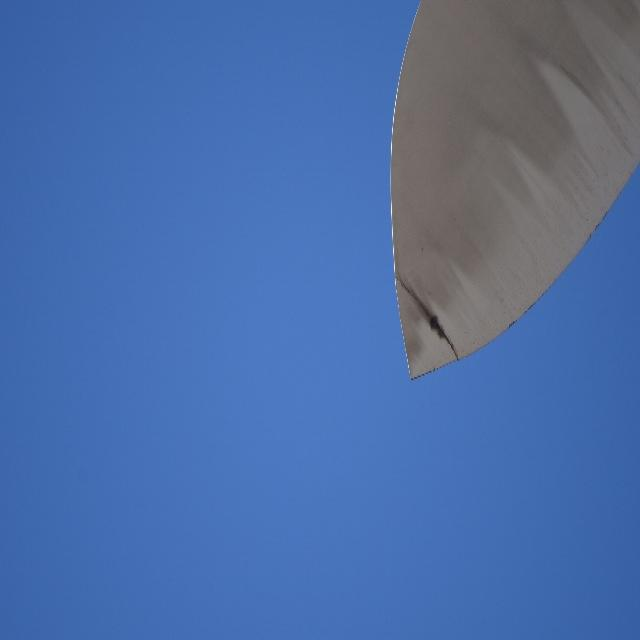Burn Mark: (391, 278, 468, 369)
